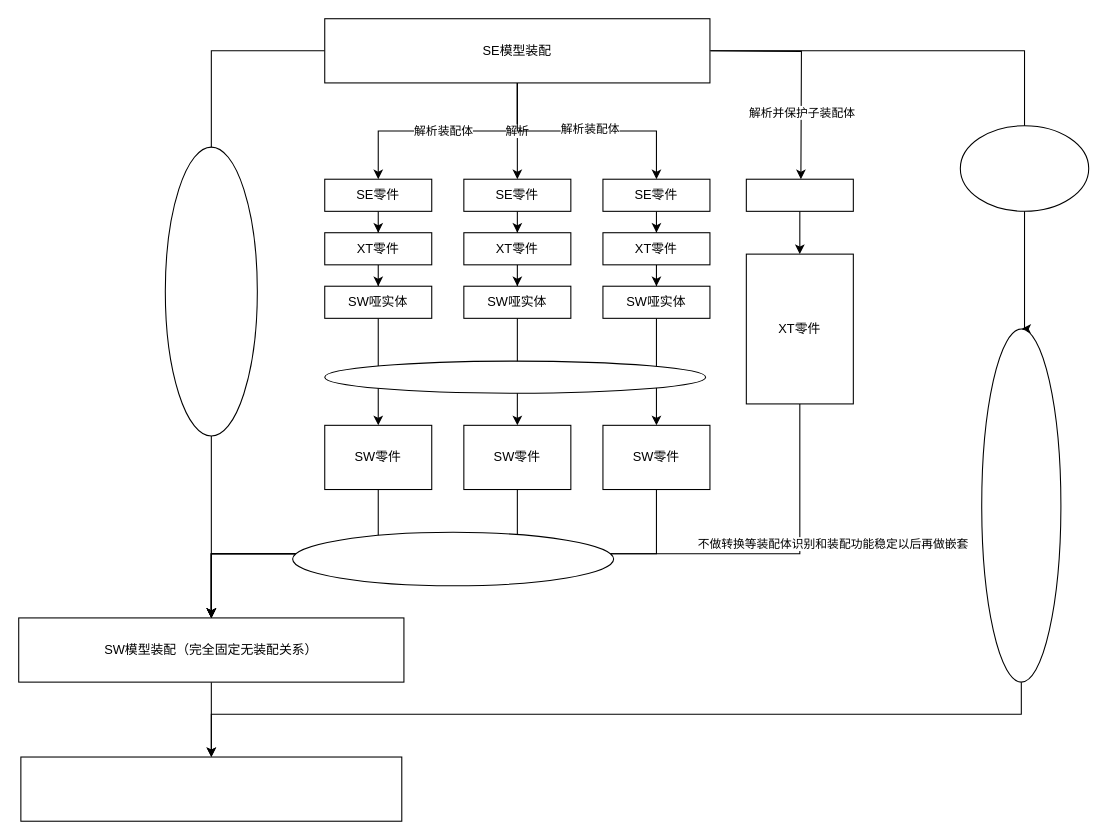
Image size: 1107x840. Some labels were removed from this diagram. Each missing label, with the centre of its shape:
SE子装配体: the point at 799,194
别要faceid: the point at 1024,168
完整的SW装配体: the point at 211,788
插入+世界矩阵+完全固定: the point at 453,558
特征识别和完全定义草图: the point at 515,376
装配关系探针: the point at 1021,505
装配转换: the point at 210,291
